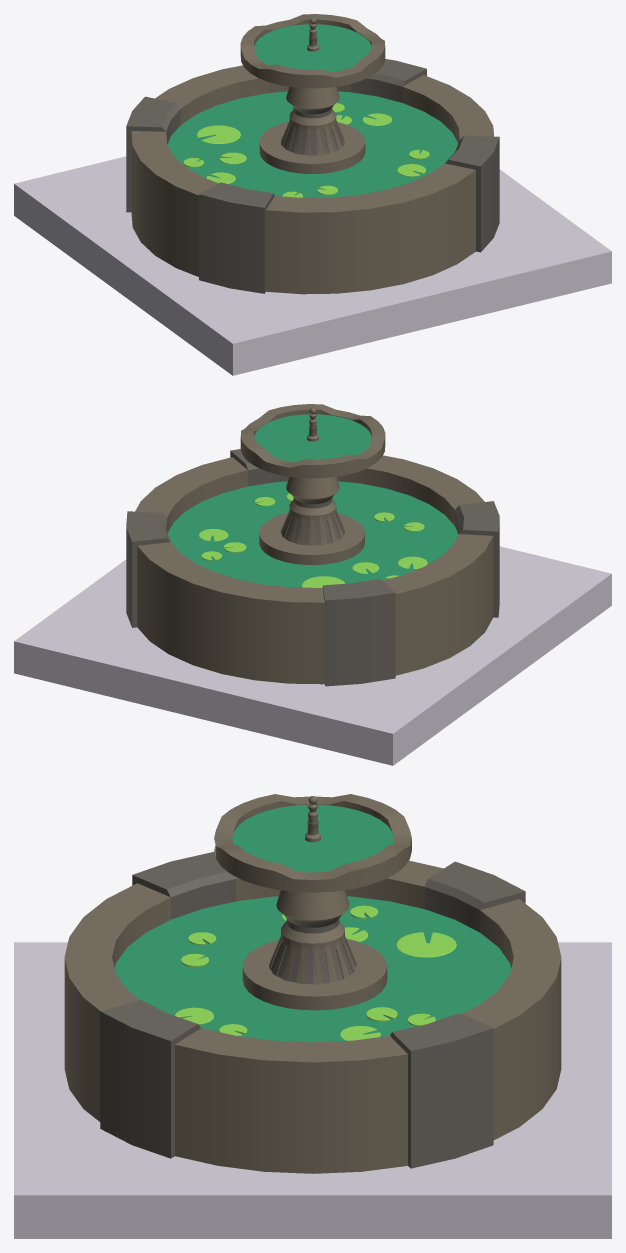
File: grass_pool.fbx
The picture shows the model from 3 angles, top to bottom: view 1: azimuth 30°, elevation 25°; view 2: azimuth 150°, elevation 25°; view 3: azimuth 270°, elevation 25°; orthographic projection. The views are drawn at different scales.
Parts seen in each view (by area): view 1: pool, white base.011; view 2: pool, white base.011; view 3: pool, white base.011.
Boxes of the visible parts, bbox=[...] form: pool: bbox=[126, 14, 499, 294]; white base.011: bbox=[14, 156, 611, 375]; pool: bbox=[126, 404, 499, 686]; white base.011: bbox=[14, 546, 611, 765]; pool: bbox=[64, 794, 561, 1173]; white base.011: bbox=[14, 942, 611, 1238].
Size of the model in its own units: 301 by 176 by 301.
